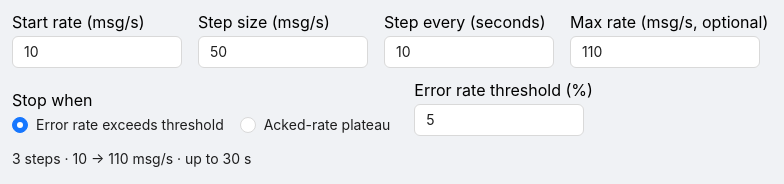
Test: RampControls › the preview follows an edit rather than going stale
Expected: the text with test id "ramp-plan-preview" shows "3", [12, 150, 21, 167]
Step 1. Replace the text in the number field labelled "Max rate (msg/s, optional)" with "210" → [665, 52], box [571, 37, 759, 67]
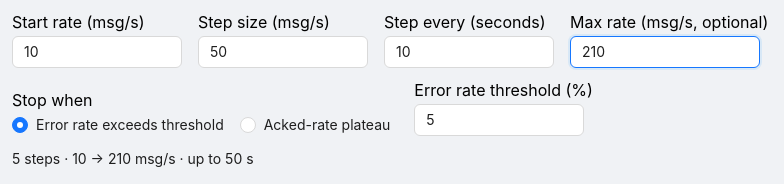
Now the text with test id "ramp-plan-preview" shows "5", box [12, 150, 20, 167]
